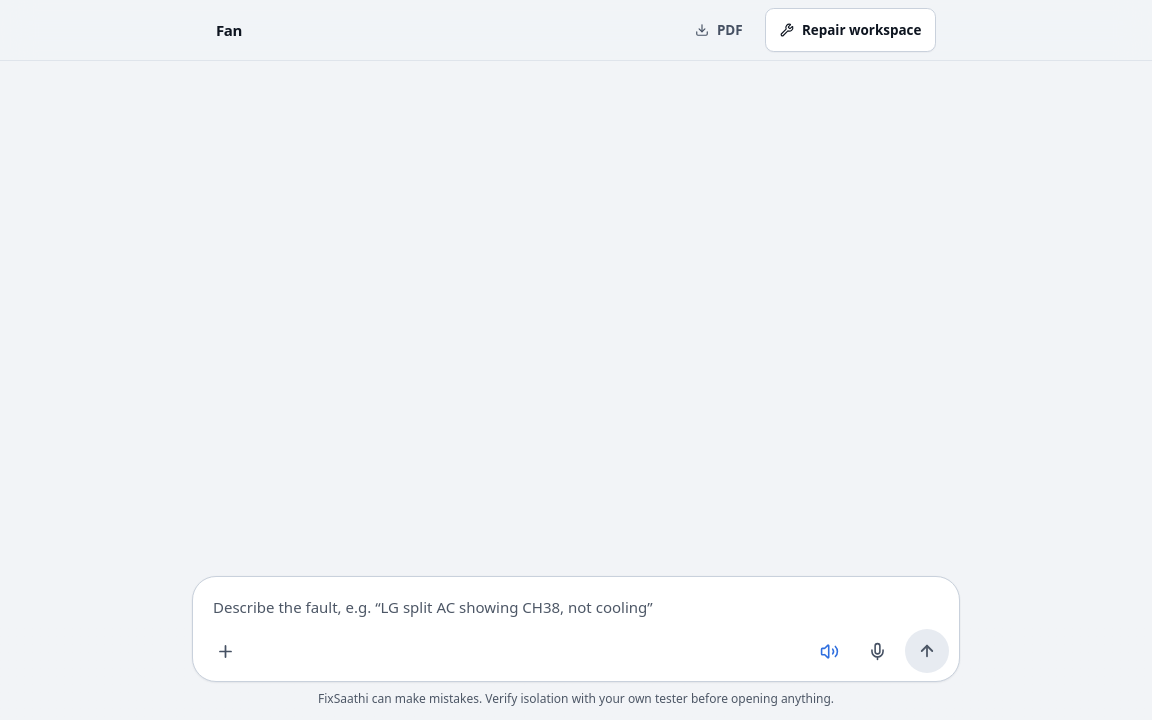
Scenario: text vs voice replies › a voice message is answered aloud with the natural voice when the speaker is on, and typing afterwards stays silent
Later steps or results of the test are not shown.
Click the button named "Start speaking" at (877, 651), box [855,629,899,673]
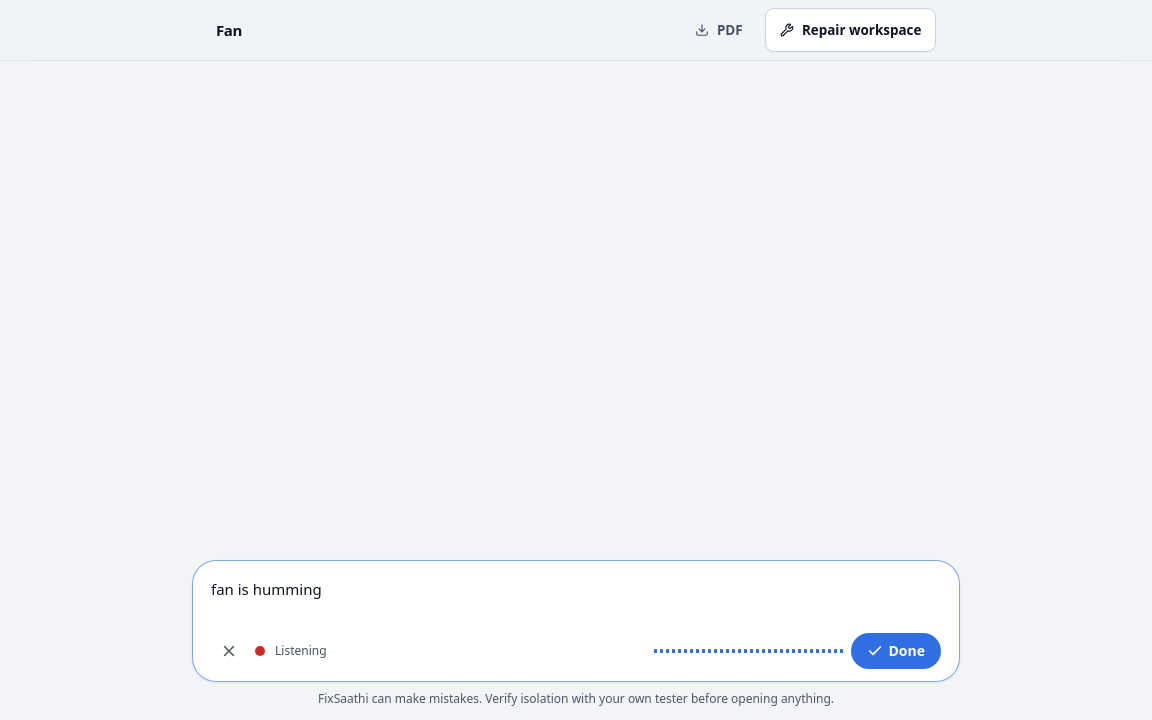
Expected: the button "Done" is shown
Click the button "Done" at (896, 651), box [850,633,941,669]
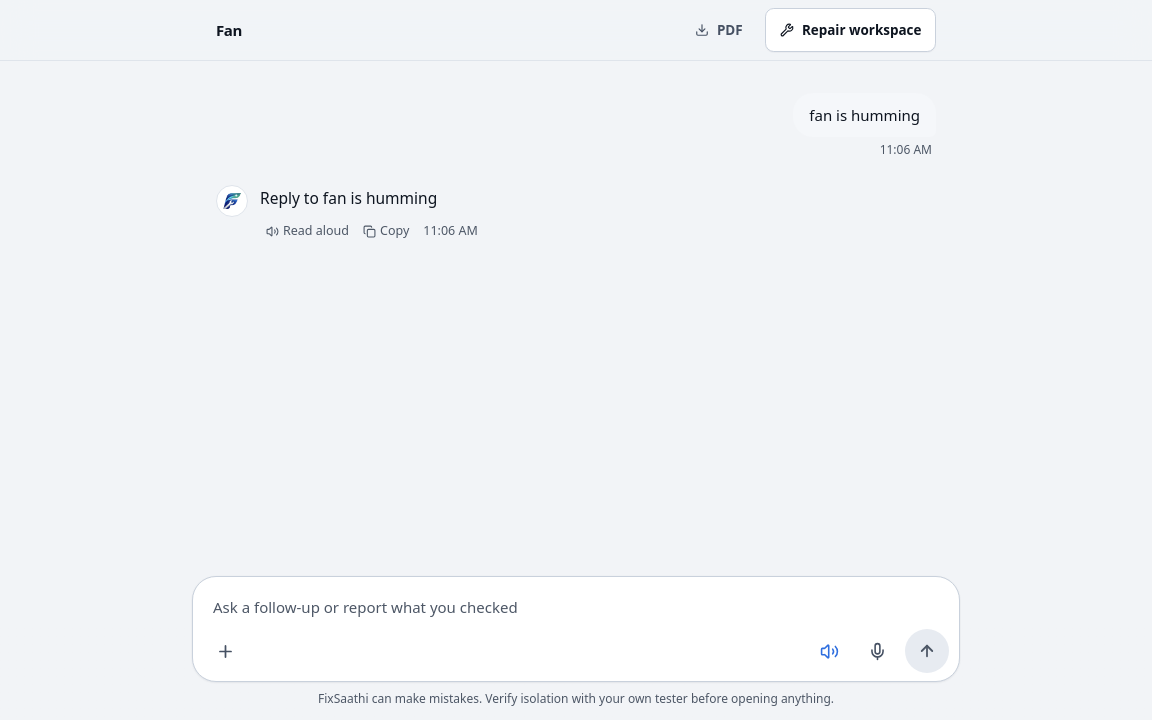
Expected: the text "Reply to fan is humming" is shown, [260,187,437,209]
